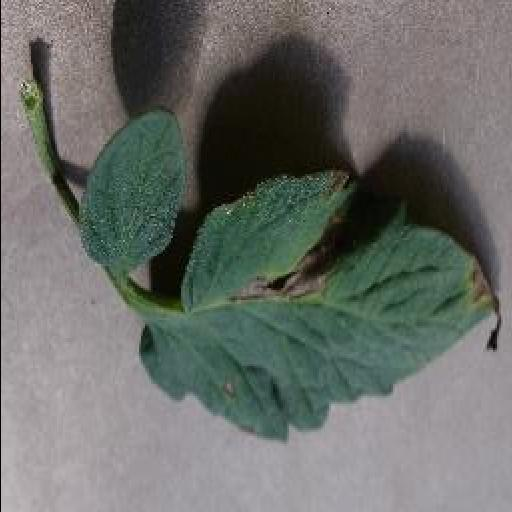disease_tomato: (143, 166, 497, 447)
